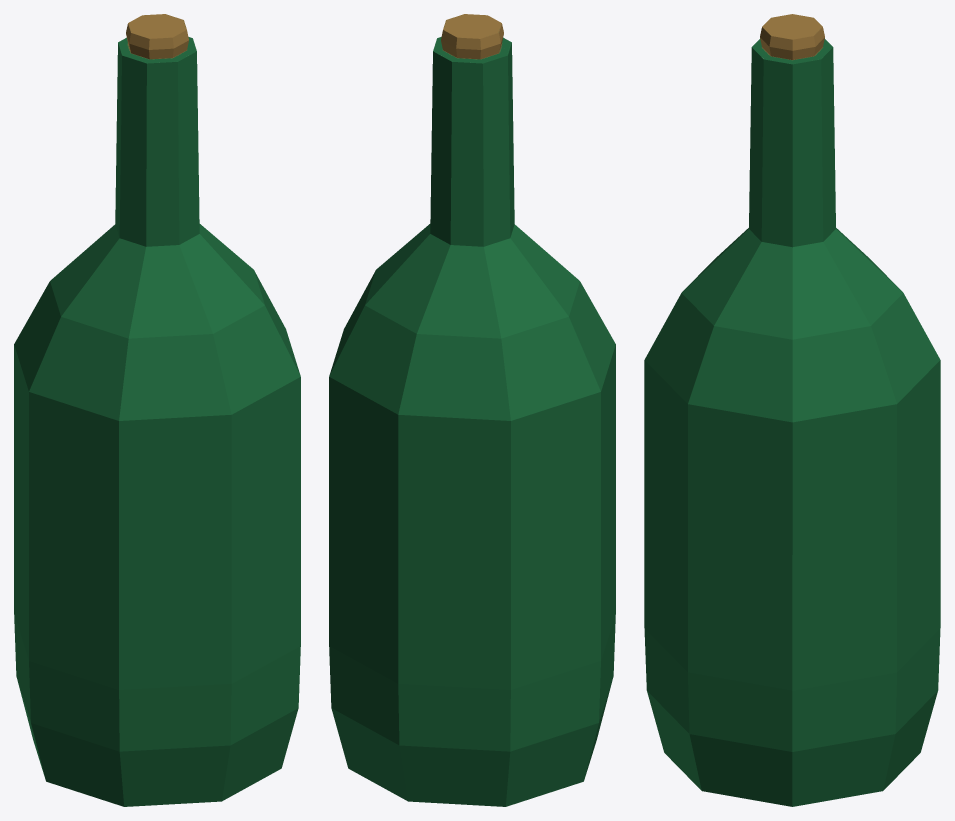
Rendered from Bottle.fbx.
3 views of the same model, side by side, from view 1: azimuth 30°, elevation 25°; view 2: azimuth 150°, elevation 25°; view 3: azimuth 270°, elevation 25° (orthographic).
Parts seen in each view (by area): view 1: Cylinder; view 2: Cylinder; view 3: Cylinder.
Boxes of the visible parts, box(x1,y1,x2,y2) form: Cylinder: box(14, 14, 300, 806); Cylinder: box(329, 14, 615, 806); Cylinder: box(644, 14, 940, 806).
Size of the model in its own units: 100 by 271 by 100.
1 material, 1 textured.
